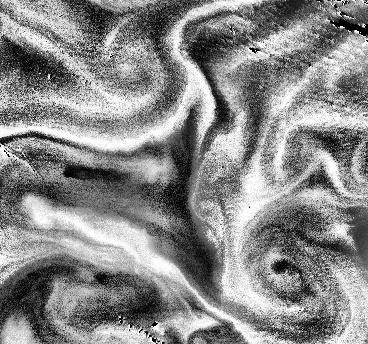CE: (224, 202, 349, 314), (91, 23, 169, 119)
